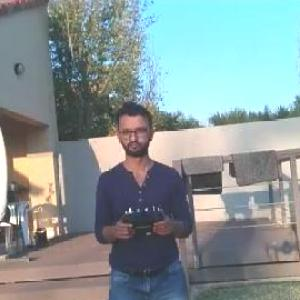follow: (82, 95, 191, 299)
